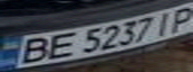2: (100, 22, 124, 52)
3: (118, 18, 142, 47)
5: (78, 25, 106, 55)
7: (133, 15, 160, 43)
B: (9, 34, 57, 65)
E: (39, 30, 81, 61)
I: (148, 9, 181, 36)
P: (163, 3, 193, 34)
